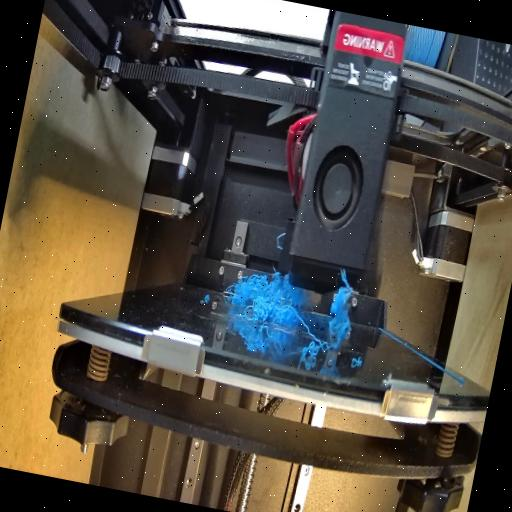spaghetti: (226, 268, 294, 324), (320, 286, 358, 353), (303, 330, 327, 358)
